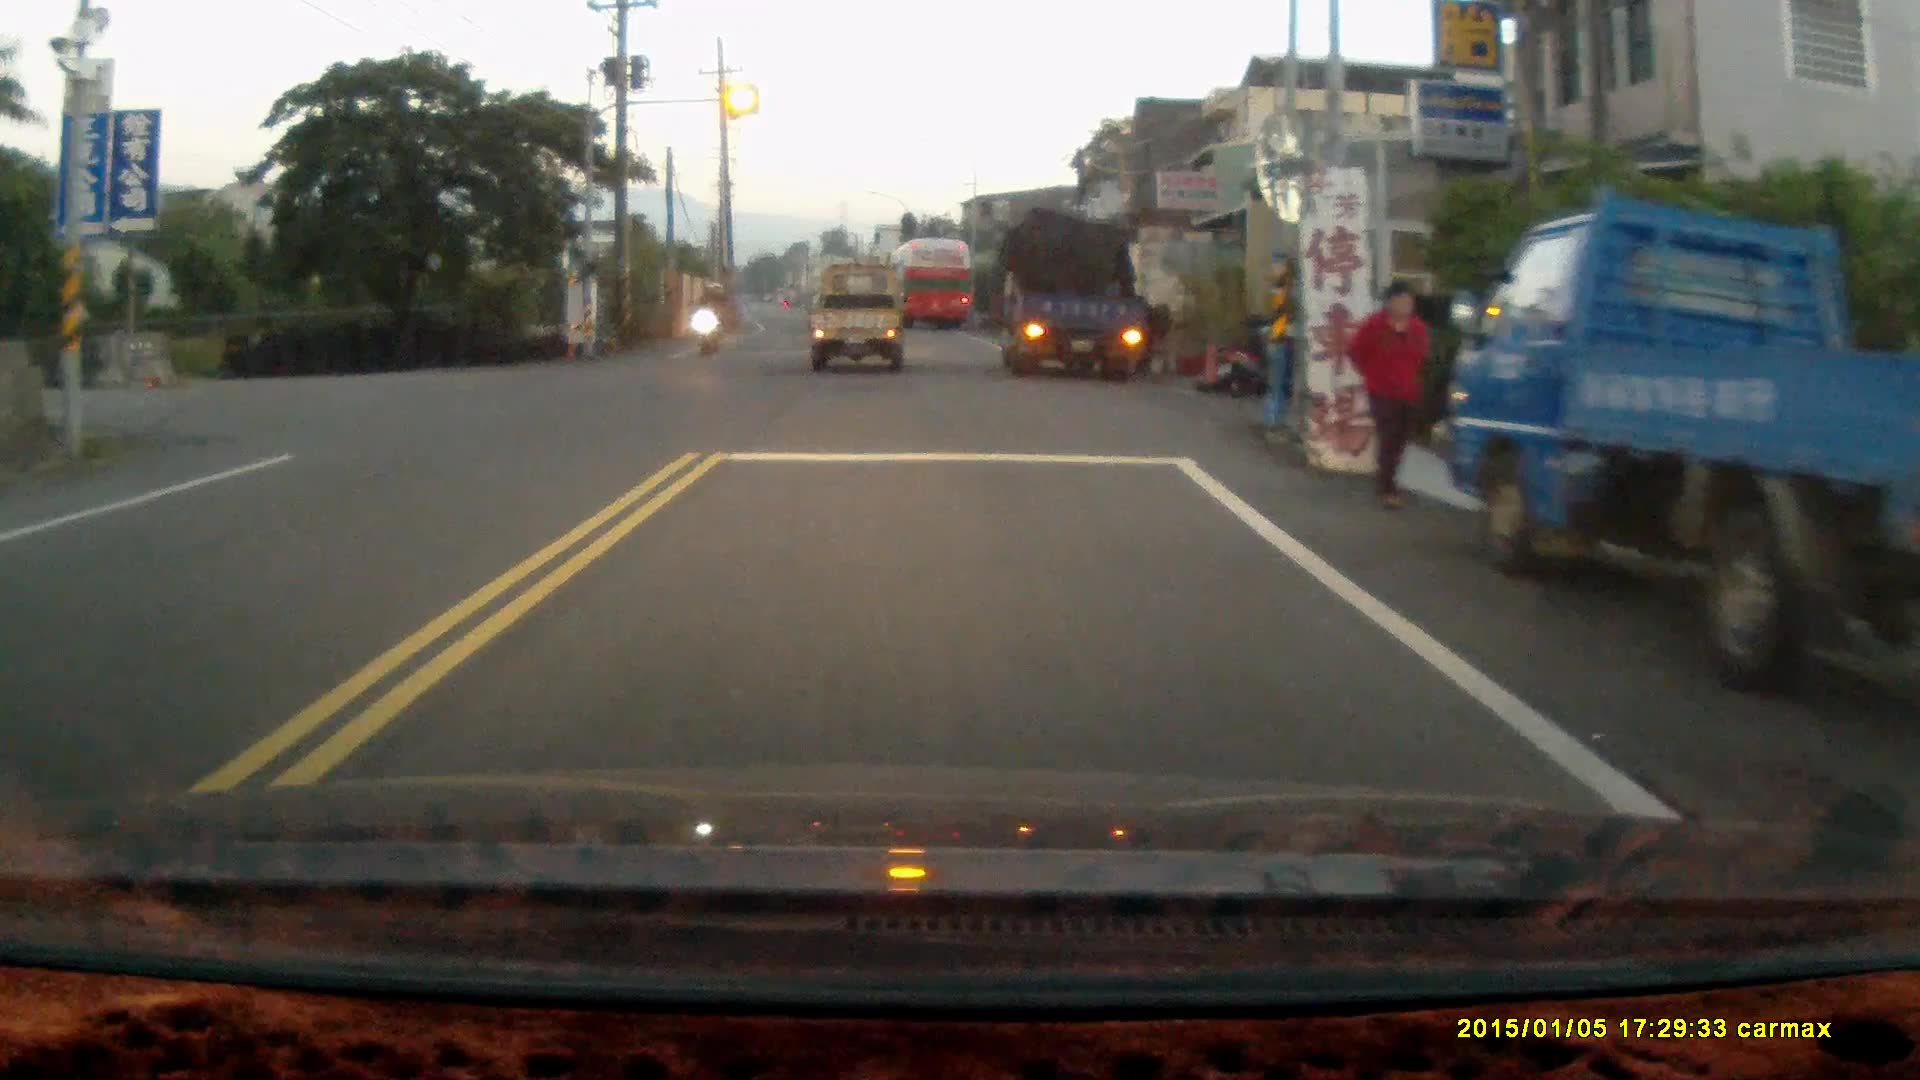pedestrian: (1348, 277, 1430, 513)
rider: (692, 282, 724, 356)
vehicle: (1445, 187, 1918, 706), (995, 208, 1164, 385), (810, 264, 908, 372), (888, 239, 973, 329)
